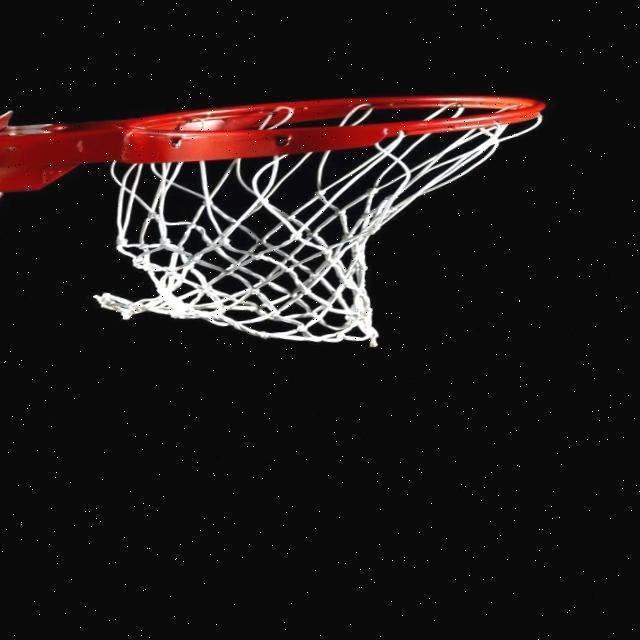hoop: (14, 43, 569, 385)
